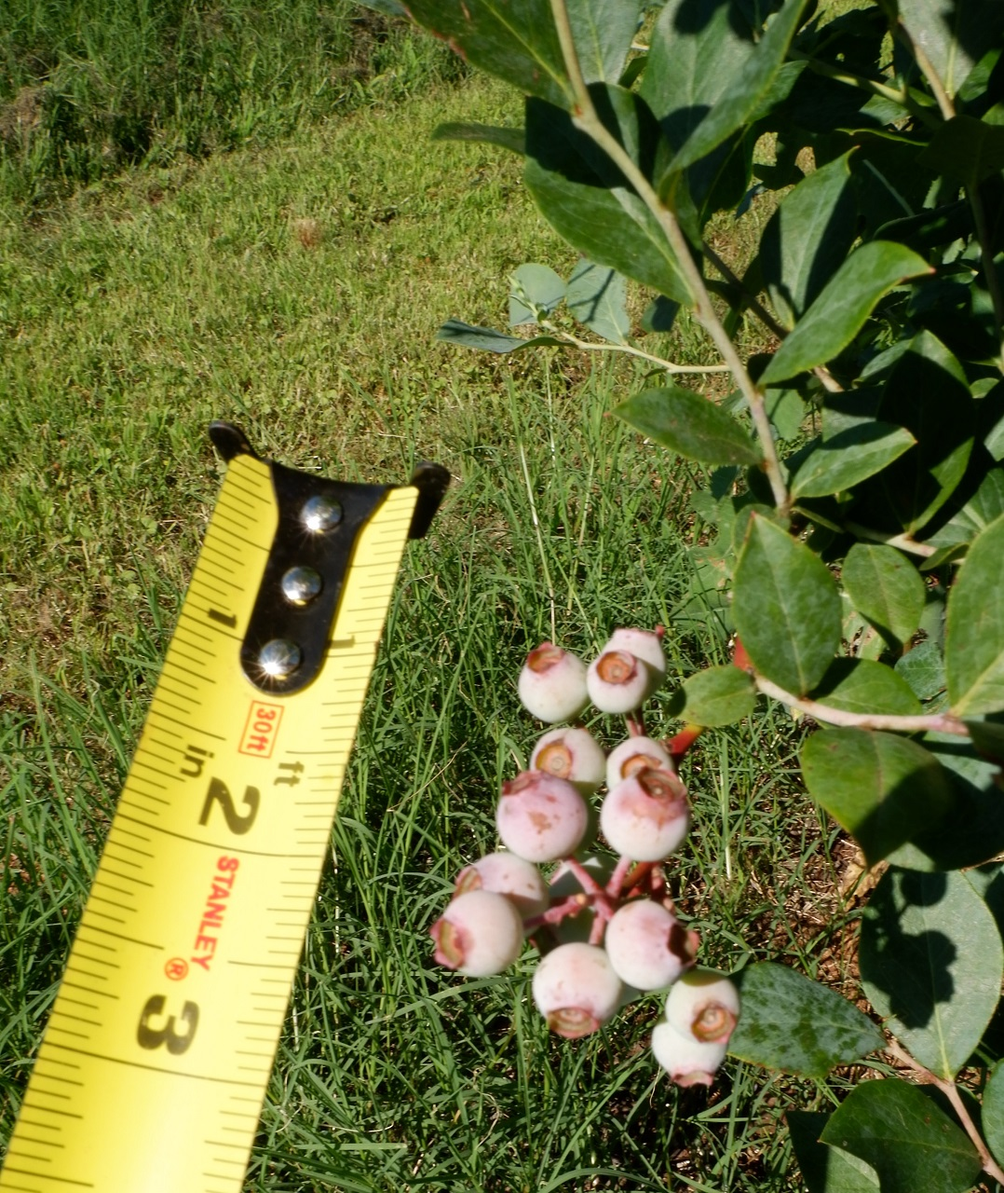Immature: (428, 888, 525, 979), (495, 770, 590, 862), (599, 767, 691, 862), (534, 940, 623, 1038), (450, 851, 549, 939), (605, 898, 699, 990), (517, 641, 590, 723), (666, 969, 741, 1045), (652, 1013, 729, 1086), (531, 727, 605, 799), (601, 624, 667, 695), (586, 648, 652, 715), (605, 736, 679, 790)
